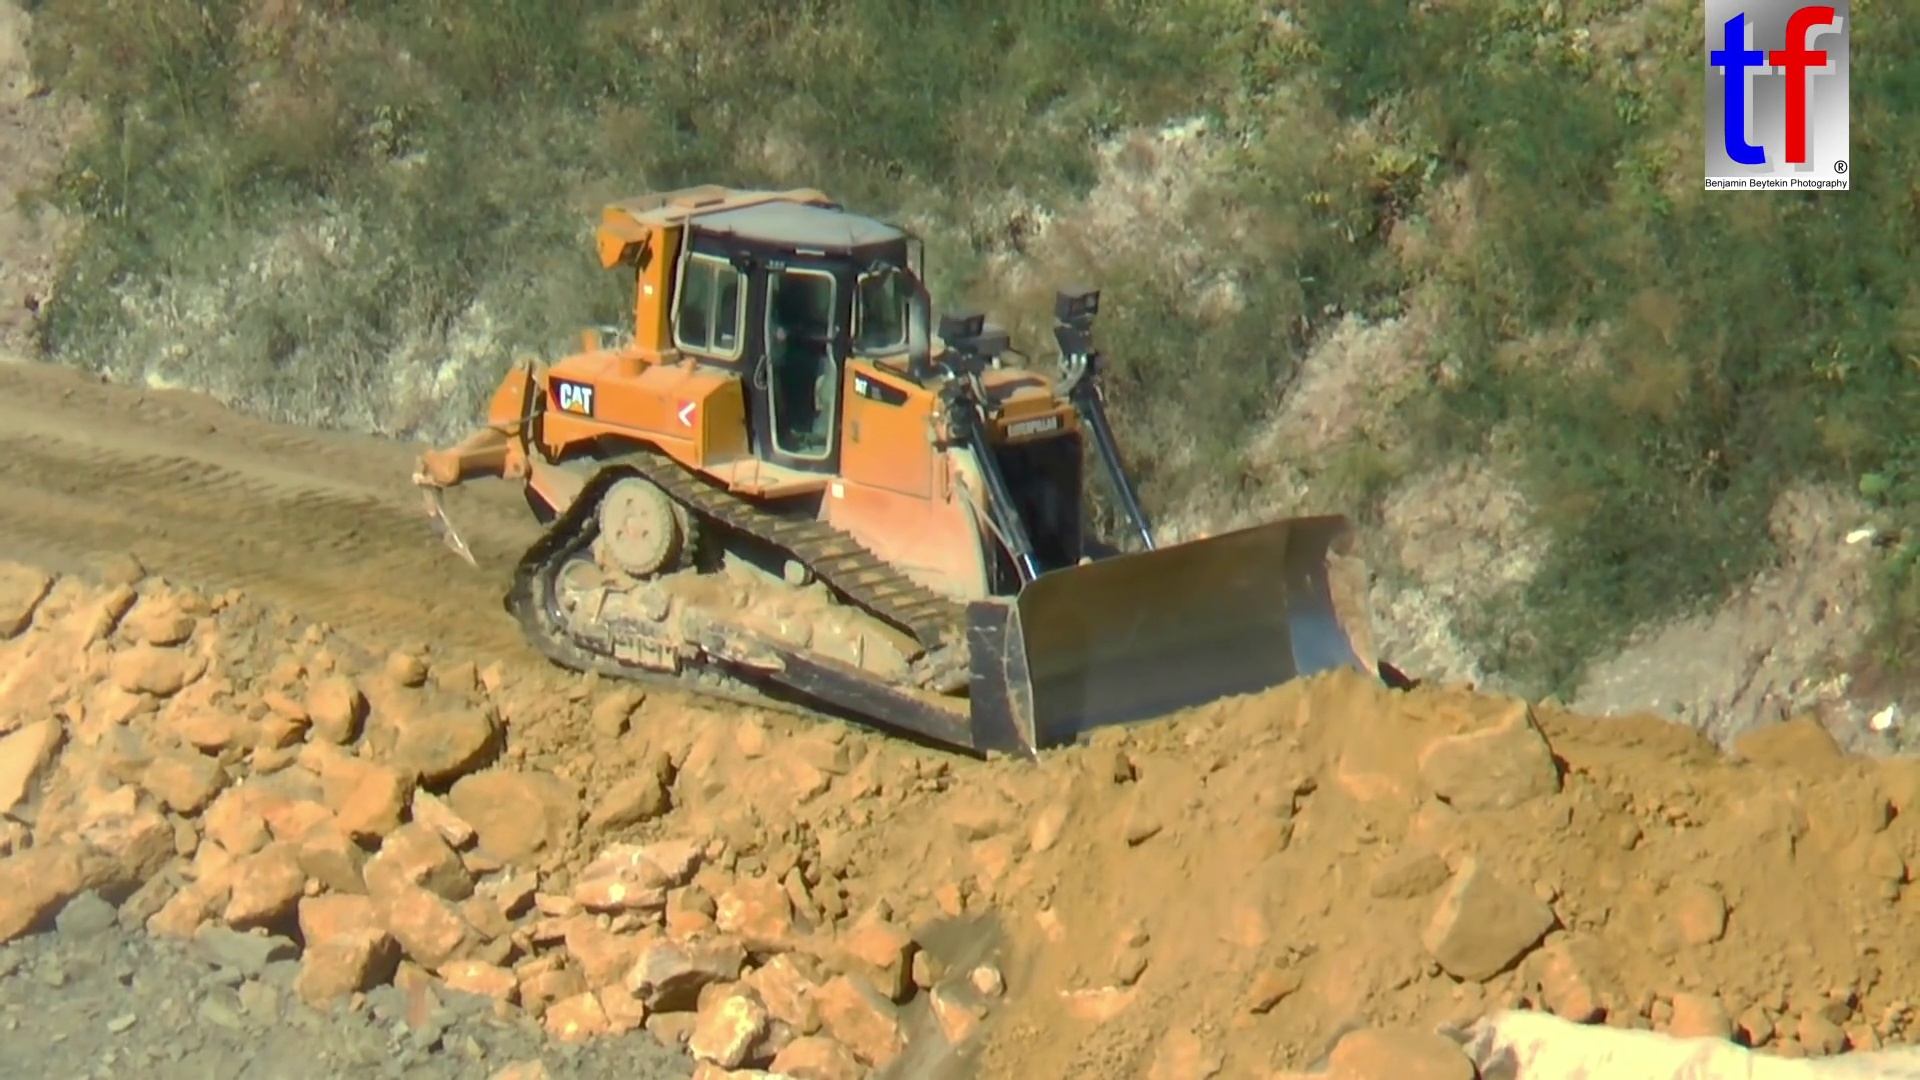bulldozer: (418, 185, 1407, 794)
